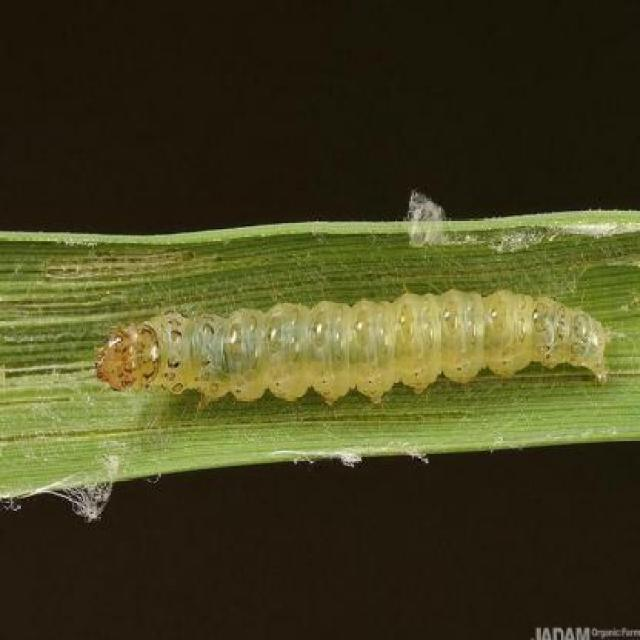leaf-folder: (90, 281, 624, 419)
